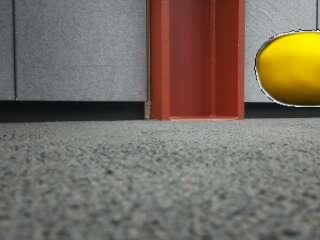lemon: (257, 33, 320, 105)
